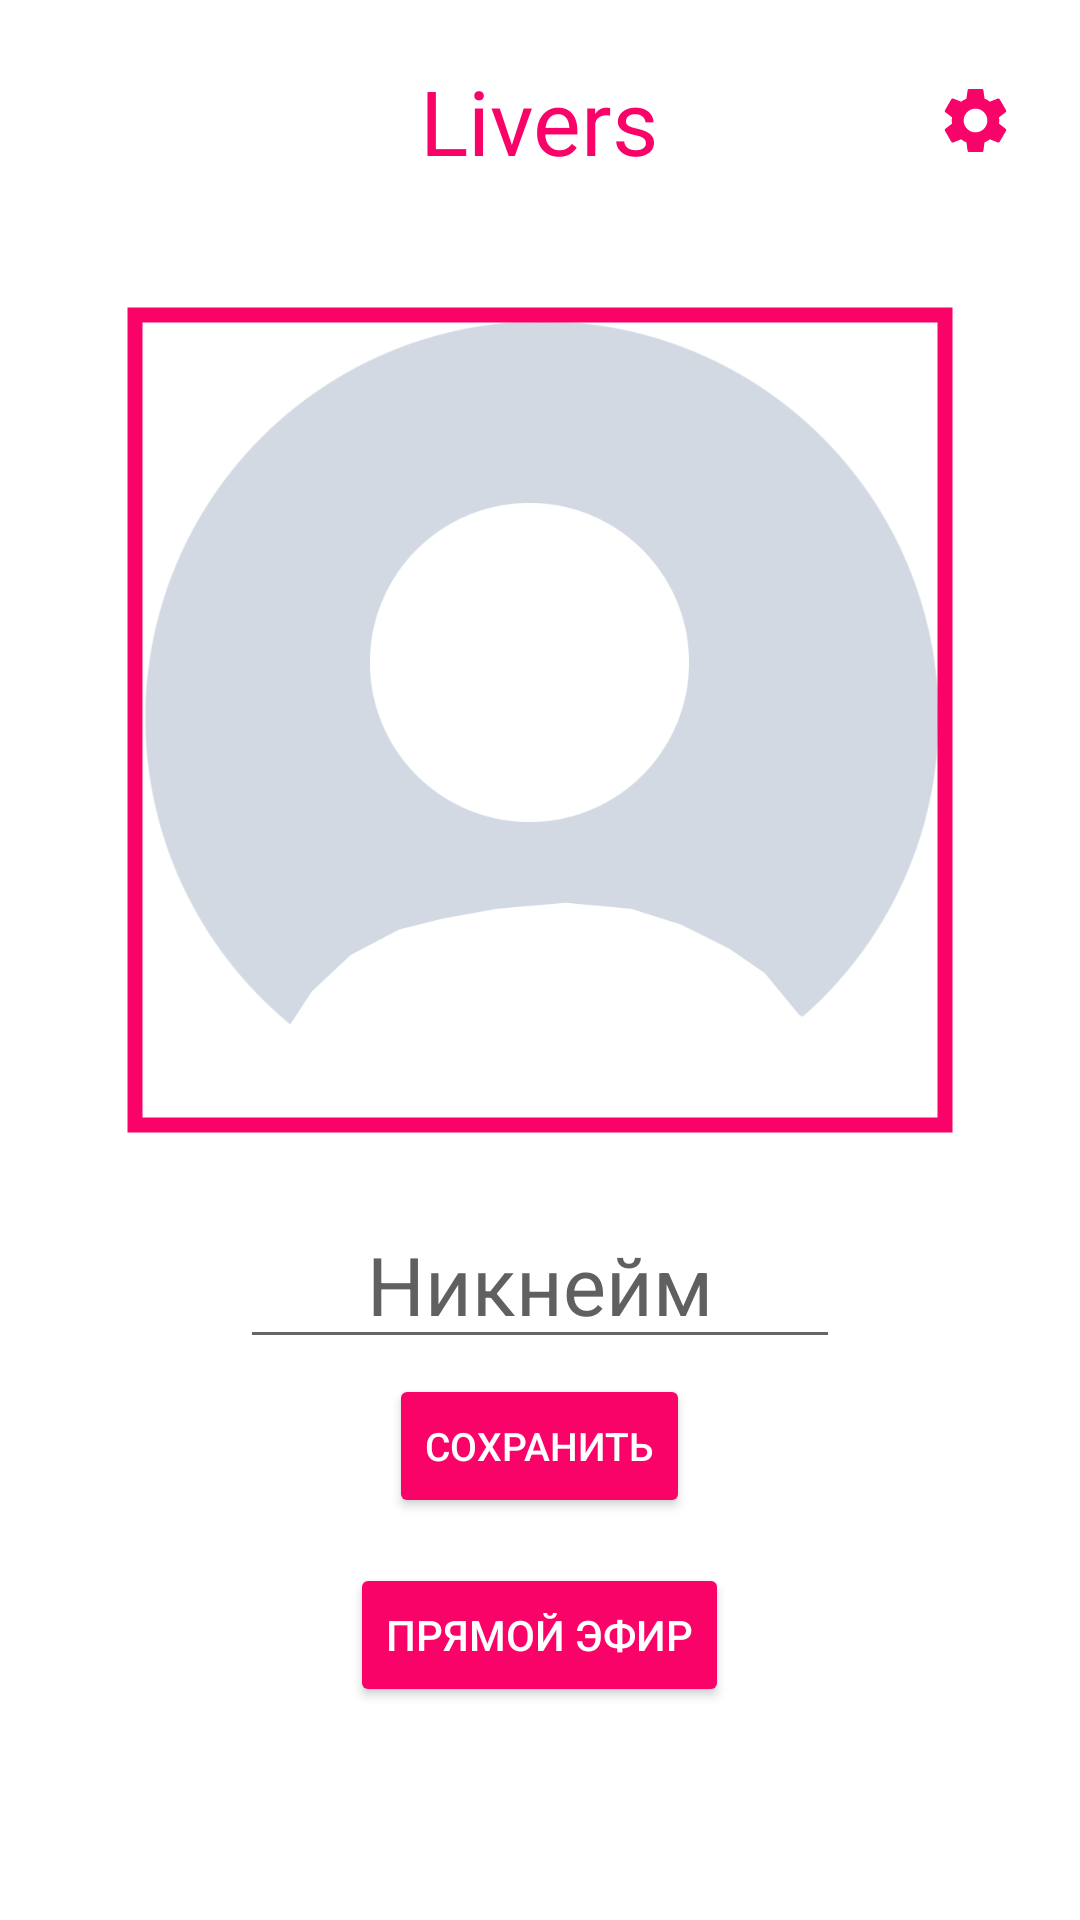

Icon bounding boxes for this 1080px x 1920px phone screenshot, format (x1, y1, x2, y2):
settings: (944, 89, 1007, 152)
